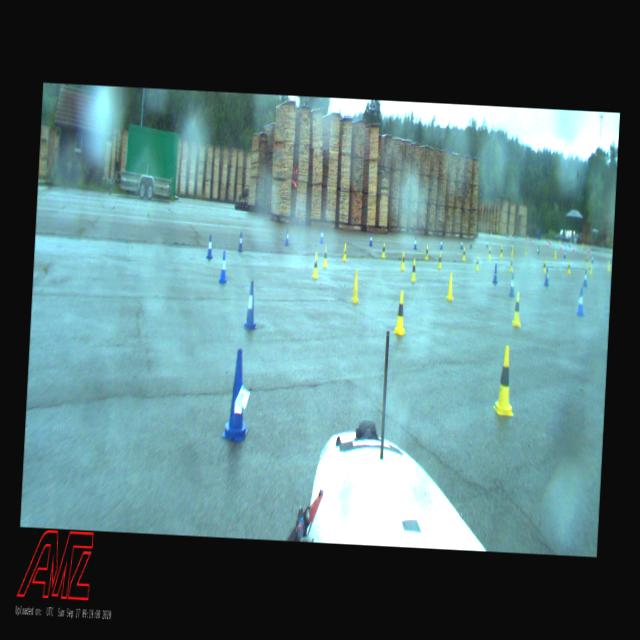blue_cone: (224, 349, 250, 441), (245, 280, 258, 330), (218, 251, 228, 283), (578, 288, 586, 316), (508, 273, 515, 297), (207, 235, 213, 258), (238, 232, 244, 252), (492, 264, 498, 283), (544, 267, 550, 286), (285, 229, 290, 245), (583, 270, 588, 286), (320, 228, 324, 244), (439, 239, 444, 250), (370, 233, 373, 246), (414, 237, 417, 250), (486, 238, 488, 248), (470, 239, 472, 249), (460, 240, 462, 249), (592, 254, 594, 263), (538, 246, 540, 254), (564, 250, 566, 258), (569, 241, 571, 249), (564, 241, 566, 248)
orange_cone: (588, 244, 590, 253), (547, 240, 549, 248), (560, 242, 562, 250), (573, 244, 575, 252), (532, 238, 534, 245)
yellow_cone: (494, 345, 514, 415), (394, 291, 406, 334), (512, 292, 522, 326), (352, 270, 361, 302), (446, 272, 454, 300), (312, 252, 320, 278), (411, 259, 416, 282), (400, 252, 406, 270), (342, 243, 348, 261), (324, 246, 328, 267), (509, 256, 514, 272), (438, 252, 442, 268), (476, 255, 480, 270), (424, 246, 428, 260), (488, 247, 492, 260), (588, 262, 592, 275), (462, 248, 466, 260), (382, 243, 385, 257), (543, 259, 546, 272), (500, 246, 503, 257), (607, 262, 610, 272), (568, 262, 570, 274), (586, 256, 588, 267), (554, 250, 556, 258), (526, 246, 528, 254), (511, 247, 513, 254), (498, 233, 499, 237)
